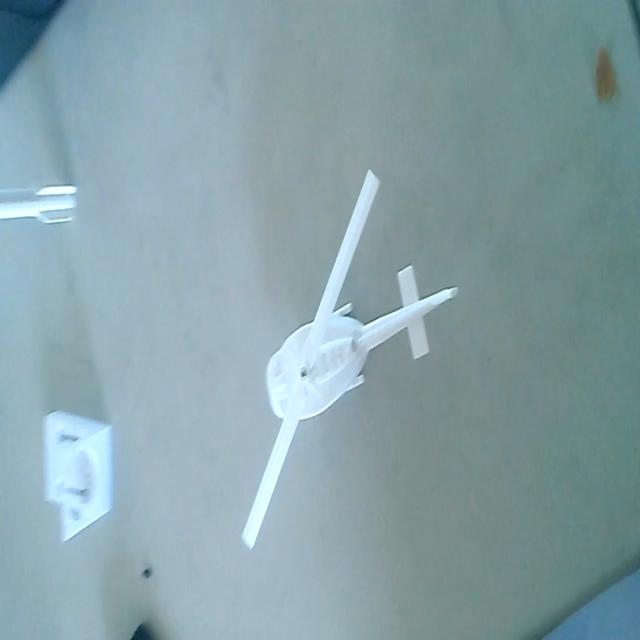Helicopter: (237, 168, 461, 551)
Rocket: (0, 172, 80, 230)
